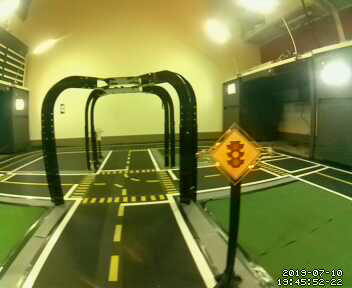Traffic light sign: (213, 127, 261, 181)
